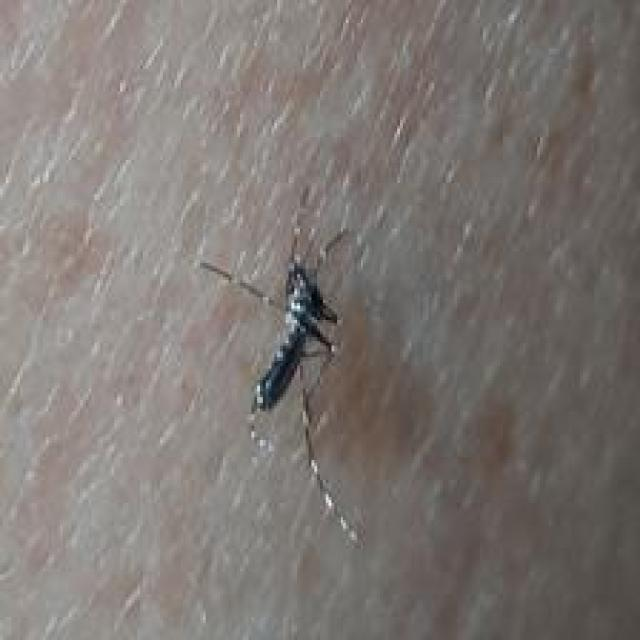Aedes albopictus: (199, 227, 367, 550)
